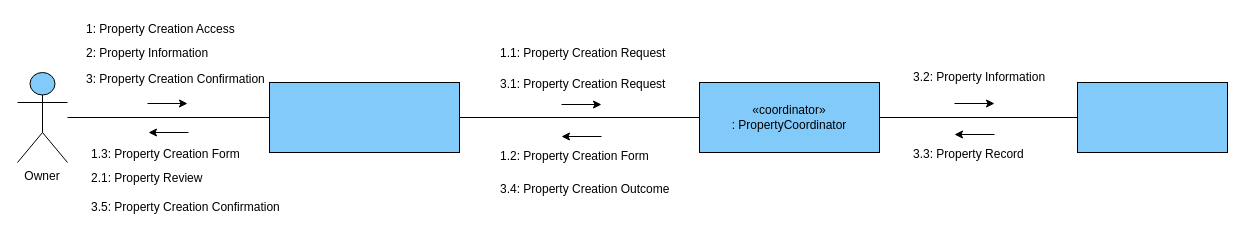
This 1245x236 diagram has some shape labels left out. The shapes that lost their labels are listed below. From the top down, each one's centre as x and y in pixels, then its label:
At pixel 364 117: "«user interaction» : PropertyCreationUI".
At pixel 1152 117: "«entity» : Property".
